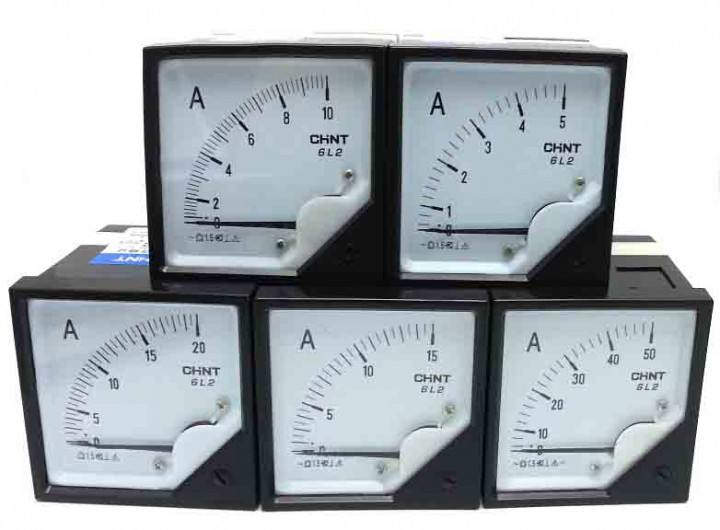pointer: (158, 57, 373, 277), (403, 60, 608, 274), (27, 298, 241, 491), (270, 309, 473, 494), (497, 309, 695, 497)
